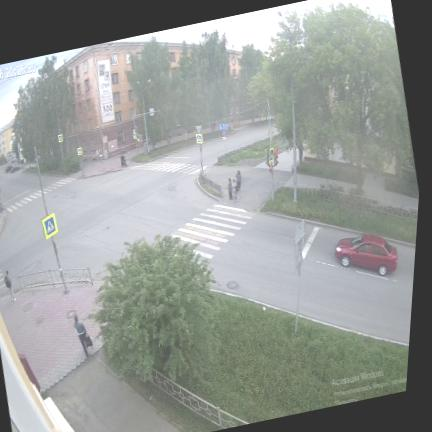car: (335, 234, 398, 276), (11, 166, 20, 172), (6, 165, 13, 172)
cyclist: (120, 153, 127, 167)
human: (74, 315, 88, 357), (5, 271, 16, 301), (228, 178, 233, 200), (232, 180, 237, 201), (236, 170, 241, 190), (0, 206, 1, 212), (0, 203, 0, 218)
lightPole: (44, 96, 64, 159), (290, 72, 297, 202), (142, 79, 151, 154)
pedestianCross: (173, 204, 252, 250), (7, 178, 75, 212), (132, 161, 201, 174), (0, 269, 6, 290)
pedestrianSign: (34, 147, 69, 293), (196, 125, 204, 175), (77, 134, 83, 175)
sign: (294, 220, 306, 333), (220, 123, 228, 154)
trafficLight: (265, 98, 278, 200), (132, 116, 143, 149), (0, 197, 2, 210)
